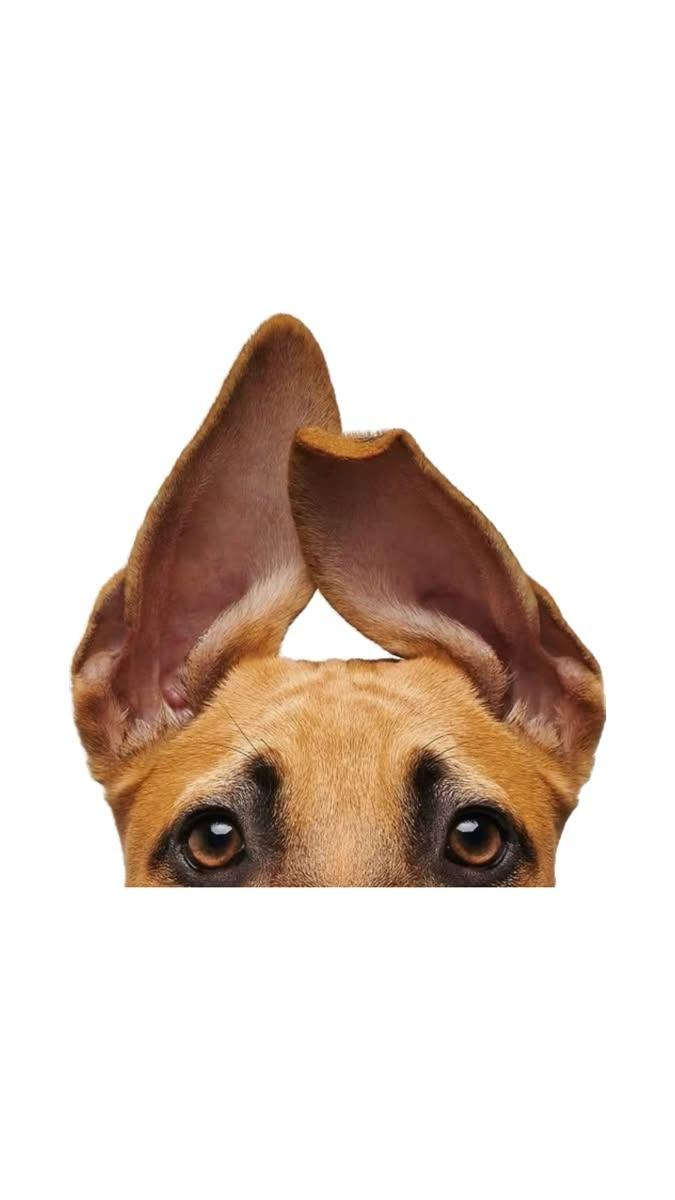adult_dog: (70, 311, 607, 889)
